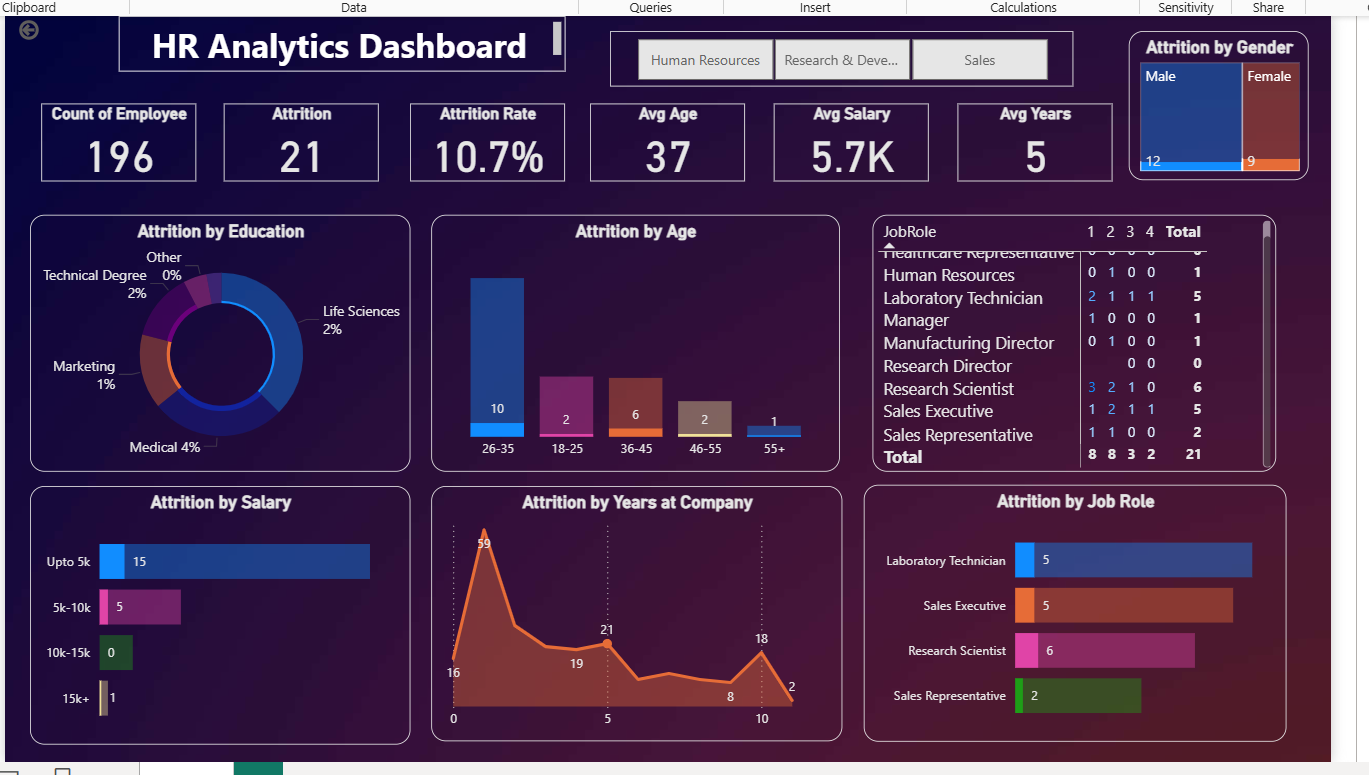

What the dashboard file says about the page in this screenshot:
{"tool":"powerbi","page":{"name":"Page 1","canvas":[1280,720],"ordinal":0},"visuals":[{"type":"card","title":"Count of Employee","fields":{"Values":["CountNonNull(HR_Analytics.EmpID)"]},"box":[35.3,84,149.5,75.6],"z":0},{"type":"card","title":"Attrition","fields":{"Values":["Sum(HR_Analytics.AttritionCount)"]},"box":[211.7,84,149.5,75.6],"z":1000},{"type":"card","title":"Attrition Rate","fields":{"Values":["HR_Analytics.AttritionRate"]},"box":[391.4,84,149.5,75.6],"z":2000},{"type":"card","title":"Avg Age","fields":{"Values":["Avg(HR_Analytics.Age)"]},"box":[564.4,84,149.5,75.6],"z":3000},{"type":"actionButton","box":[10.1,0,100.8,26.9],"z":4000},{"type":"card","title":"Avg Salary","fields":{"Values":["Avg(HR_Analytics.MonthlyIncome)"]},"box":[742.5,84,149.5,75.6],"z":5000},{"type":"card","title":"Avg Years","fields":{"Values":["Avg(HR_Analytics.YearsAtCompany)"]},"box":[918.8,84,149.5,75.6],"z":6000},{"type":"donutChart","title":"Attrition by Education","fields":{"Y":["Sum(HR_Analytics.AttritionCount)"],"Category":["HR_Analytics.EducationField","HR_Analytics.YearsAtCompany"]},"box":[24.1,191.3,367.1,248],"z":7000},{"type":"columnChart","title":"Attrition by Age","fields":{"Category":["HR_Analytics.AgeGroup"],"Y":["Sum(HR_Analytics.AttritionCount)"]},"box":[411,191.3,394,248],"z":8000},{"type":"pivotTable","fields":{"Rows":["HR_Analytics.JobRole"],"Columns":["HR_Analytics.JobSatisfaction"],"Values":["Sum(HR_Analytics.AttritionCount)"]},"box":[837.6,191.3,389.8,248],"z":9000},{"type":"barChart","title":"Attrition by Salary","fields":{"Category":["HR_Analytics.SalarySlab"],"Y":["Sum(HR_Analytics.AttritionCount)"]},"box":[24.1,453.5,367.1,249.4],"z":10000},{"type":"barChart","title":"Attrition by Job Role","fields":{"Category":["HR_Analytics.JobRole"],"Y":["Sum(HR_Analytics.AttritionCount)"]},"box":[829.1,452.1,408.2,248],"z":11000},{"type":"areaChart","title":"Attrition by Years at Company","fields":{"Category":["HR_Analytics.YearsAtCompany"],"Y":["Sum(HR_Analytics.AttritionCount)"]},"box":[411,453.5,396.9,246.6],"z":12000},{"type":"treemap","title":"Attrition by Gender","fields":{"Group":["HR_Analytics.Gender"],"Values":["Sum(HR_Analytics.AttritionCount)"]},"box":[1085,14.1,174,144.3],"z":13000},{"type":"slicer","fields":{"Values":["HR_Analytics.Department"]},"box":[584.2,14.1,447,53.8],"z":14000},{"type":"textbox","box":[110.3,0,431.4,53.8],"z":15000}]}

Visuals, with their boxes in screenshot pixels (x1, y1, x2, y2):
"Count of Employee" card: rect(14, 88, 177, 171)
"Attrition" card: rect(207, 88, 370, 171)
"Attrition Rate" card: rect(403, 88, 567, 171)
"Avg Age" card: rect(592, 88, 756, 171)
actionButton: rect(0, 0, 96, 26)
"Avg Salary" card: rect(787, 88, 950, 171)
"Avg Years" card: rect(980, 88, 1143, 171)
"Attrition by Education" donutChart: rect(1, 206, 403, 477)
"Attrition by Age" columnChart: rect(424, 206, 855, 477)
pivotTable - HR_Analytics.JobRole x HR_Analytics.JobSatisfaction: rect(891, 206, 1317, 477)
"Attrition by Salary" barChart: rect(1, 492, 403, 765)
"Attrition by Job Role" barChart: rect(882, 491, 1328, 762)
"Attrition by Years at Company" areaChart: rect(424, 492, 858, 762)
"Attrition by Gender" treemap: rect(1161, 12, 1352, 170)
slicer - HR_Analytics.Department: rect(614, 12, 1103, 71)
textbox: rect(96, 0, 567, 55)
